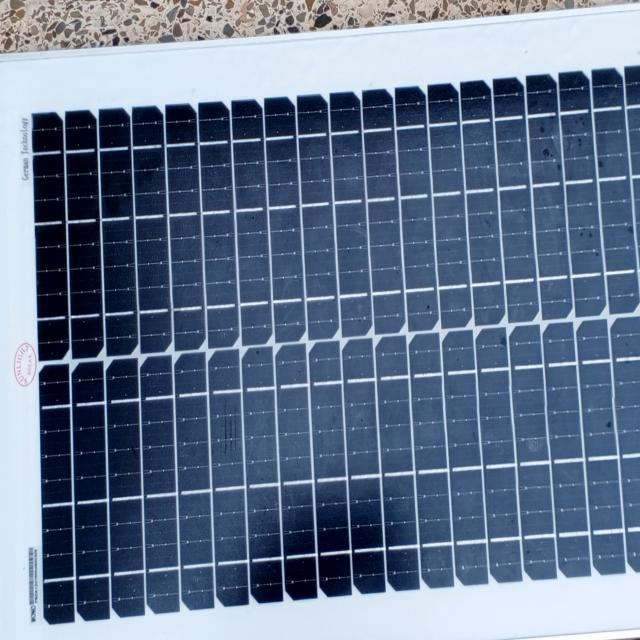Clean: (8, 66, 640, 614)
